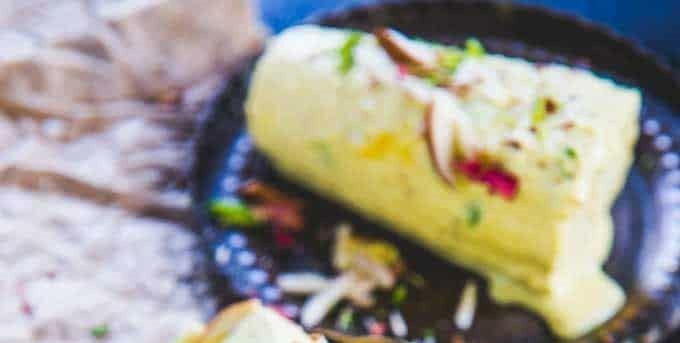Kulfi: (244, 26, 637, 337)
